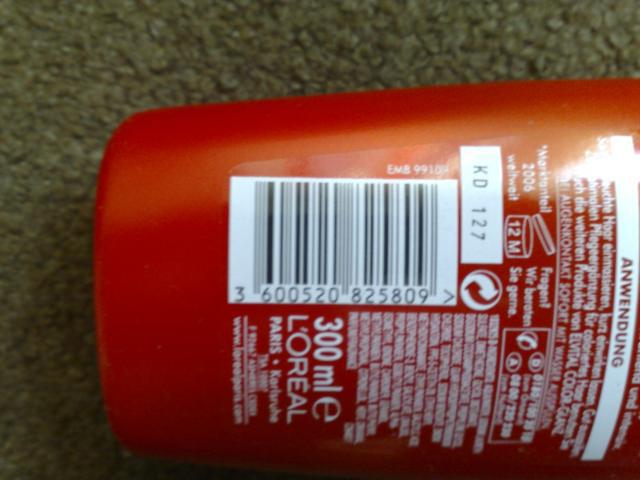Barkod: (250, 180, 438, 286)
